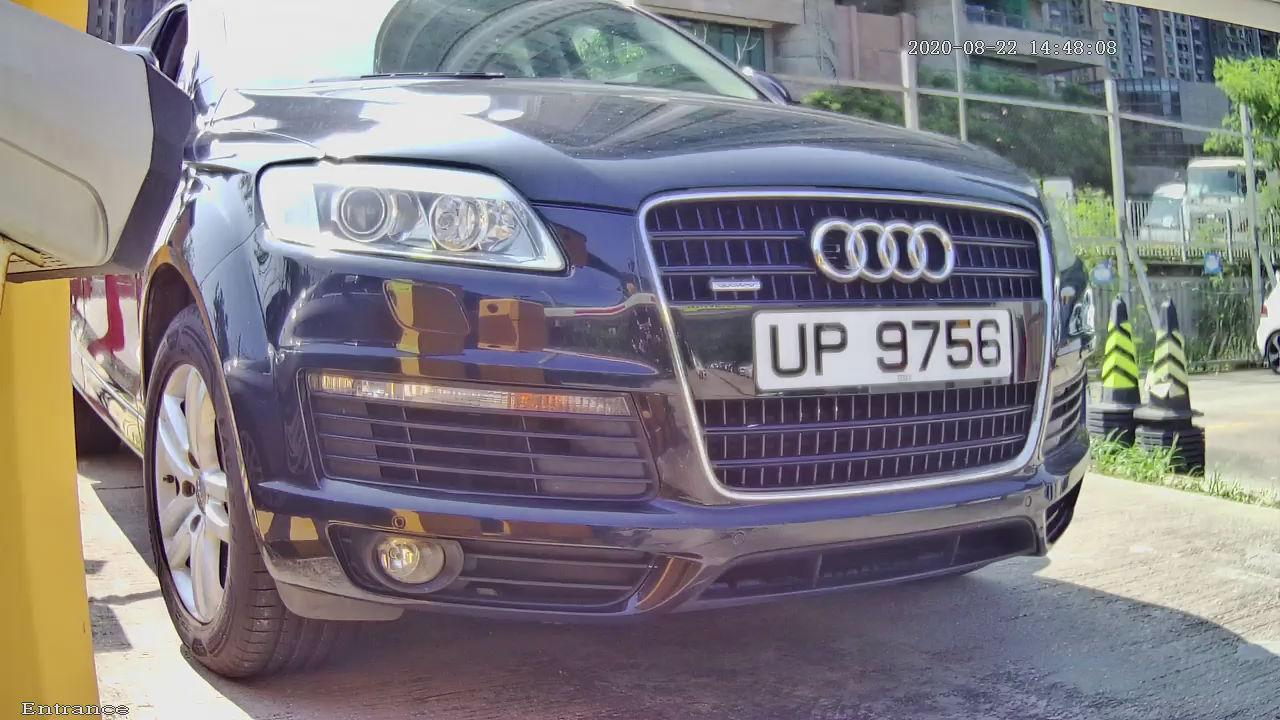Car: (69, 10, 1138, 708)
License Plate: (695, 257, 1054, 422)
